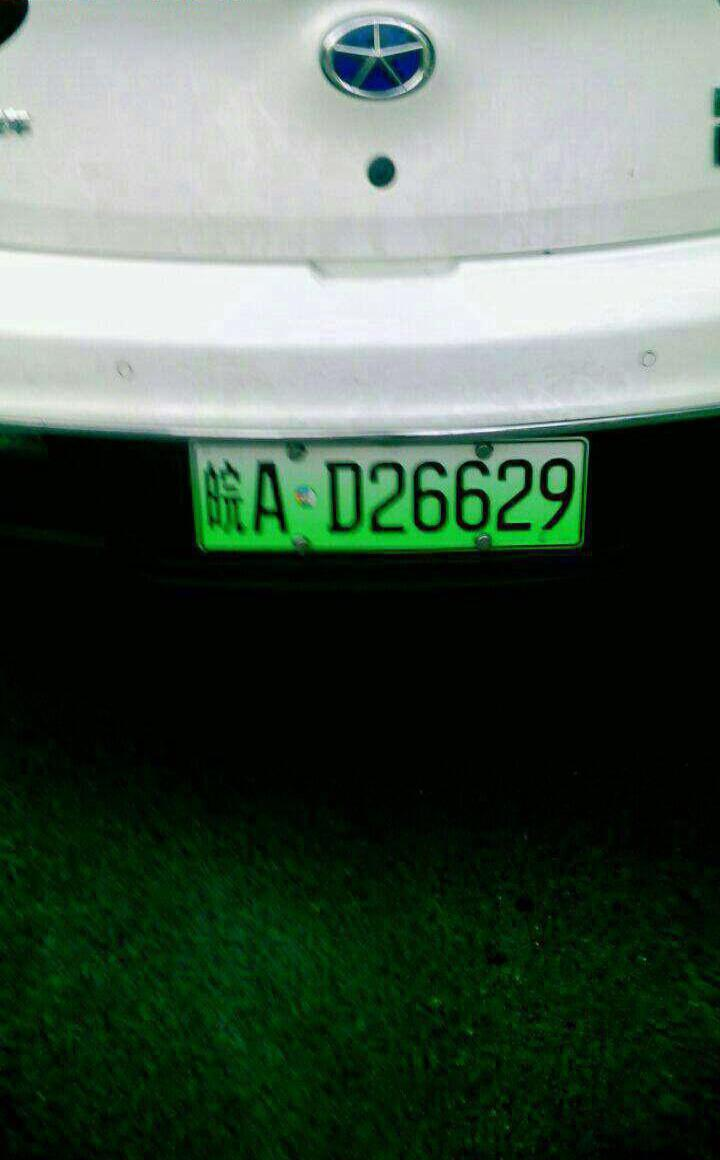car_id: (197, 442, 581, 552)
